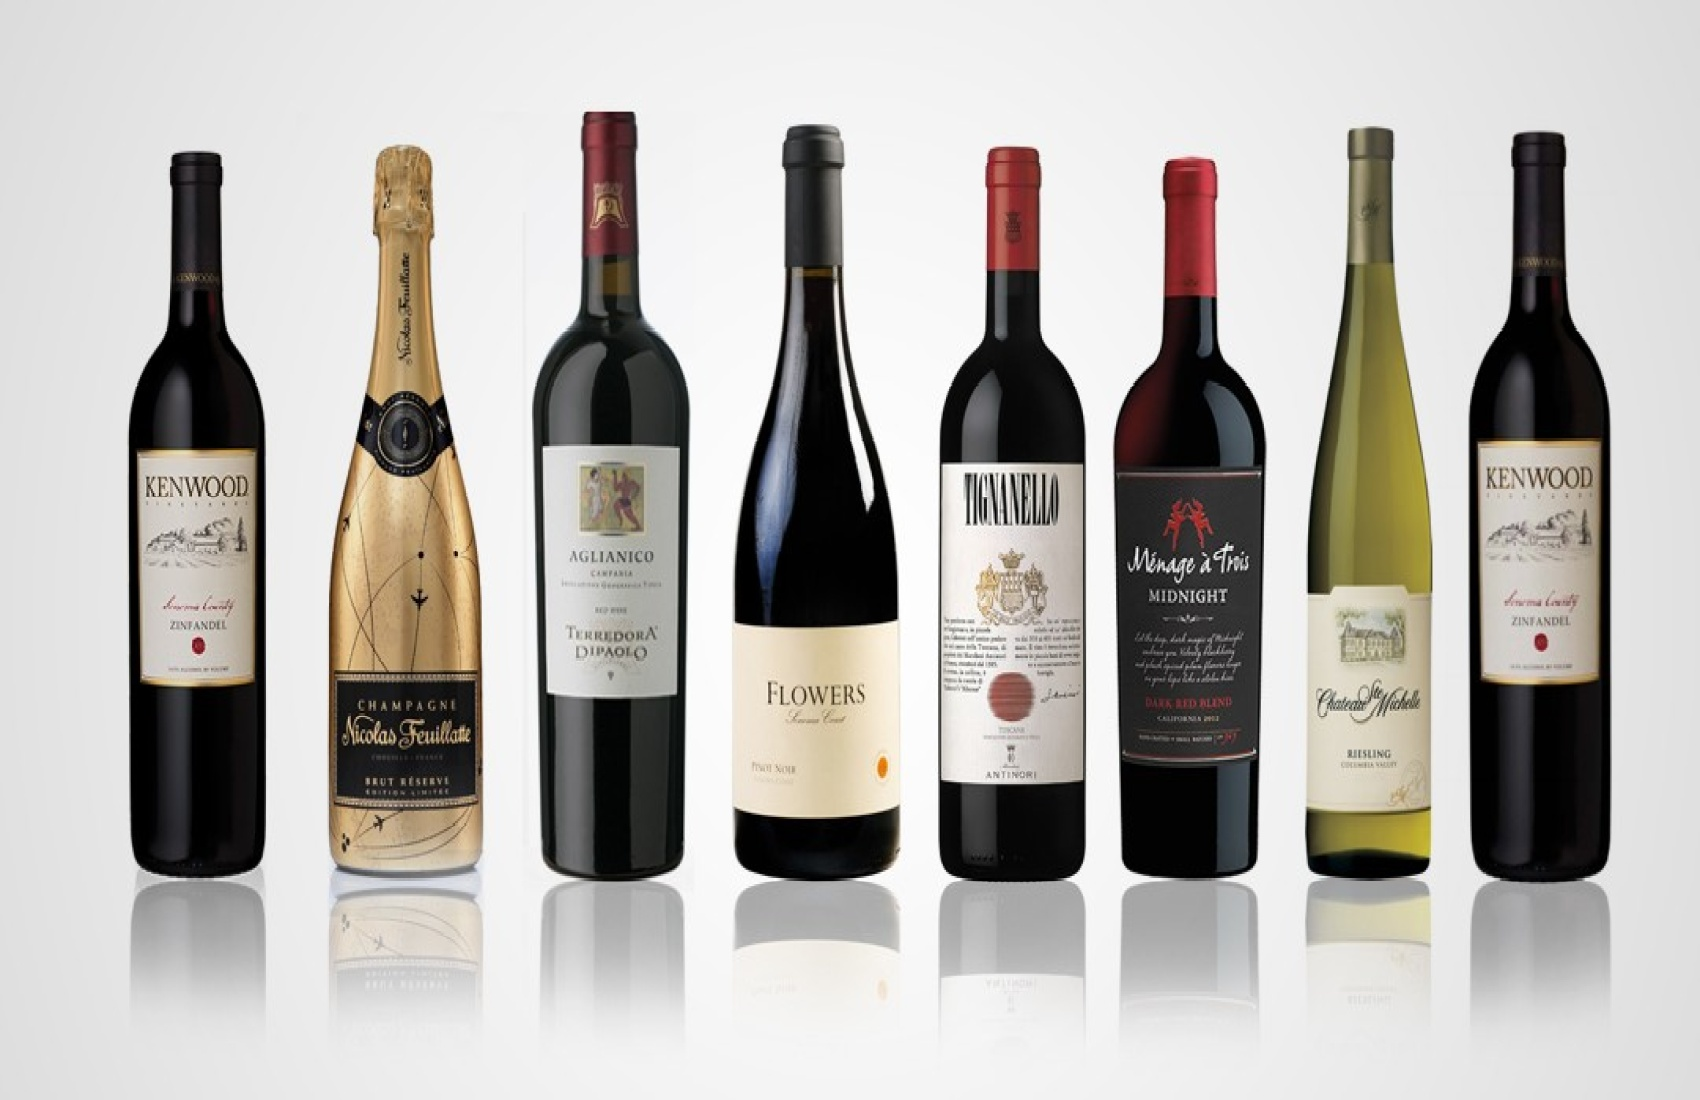wine: (937, 126, 1092, 876), (737, 123, 891, 873), (1461, 123, 1615, 873), (331, 119, 484, 870), (330, 116, 483, 867), (1111, 120, 1265, 870), (537, 111, 686, 871), (121, 125, 266, 881), (1306, 114, 1430, 877)
